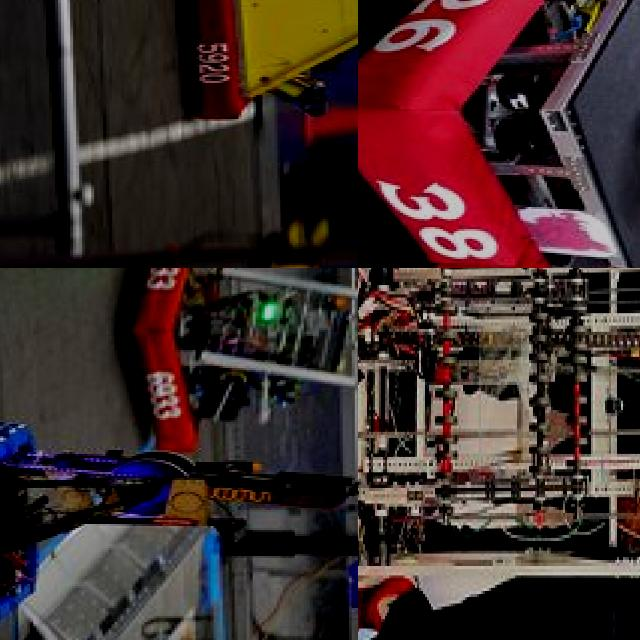FRC-Robots: (358, 268, 640, 640), (0, 419, 358, 618), (384, 0, 640, 268), (103, 268, 358, 452), (141, 0, 358, 142)
